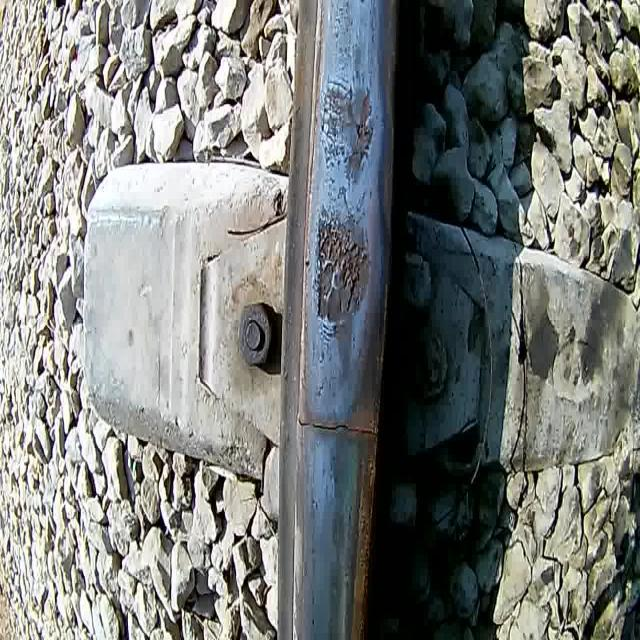Cracks: (322, 174, 372, 231), (317, 72, 357, 137)
Joint: (292, 404, 385, 447)
Spallings: (313, 205, 369, 328), (354, 79, 376, 169), (318, 140, 345, 169)
Squats: (312, 198, 374, 390), (314, 42, 378, 186), (319, 553, 349, 640), (323, 439, 357, 504), (324, 505, 351, 553)
